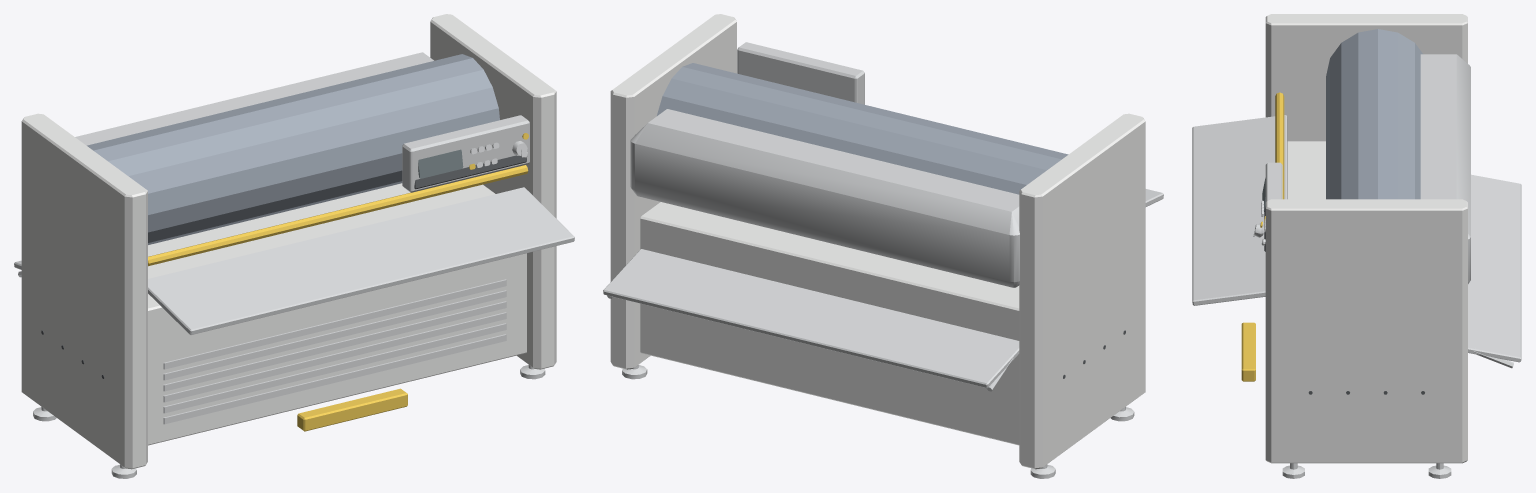
The model's file is laundrette-and-cleaning-flatwork-ironer-51ae8bf6__25534.glb.
3 renders of one model, left to right at view 1: azimuth 30°, elevation 25°; view 2: azimuth 150°, elevation 25°; view 3: azimuth 270°, elevation 25°, orthographic. The views are drawn at different scales.
Parts seen in each view (by area): view 1: flatwork-ironer; view 2: flatwork-ironer; view 3: flatwork-ironer.
Boxes of the visible parts, <box> form: flatwork-ironer: <box>14,14,574,478</box>; flatwork-ironer: <box>603,14,1163,478</box>; flatwork-ironer: <box>1192,14,1521,478</box>.
Bounding box in the file's own units: 1.65 × 1.06 × 1.17.
